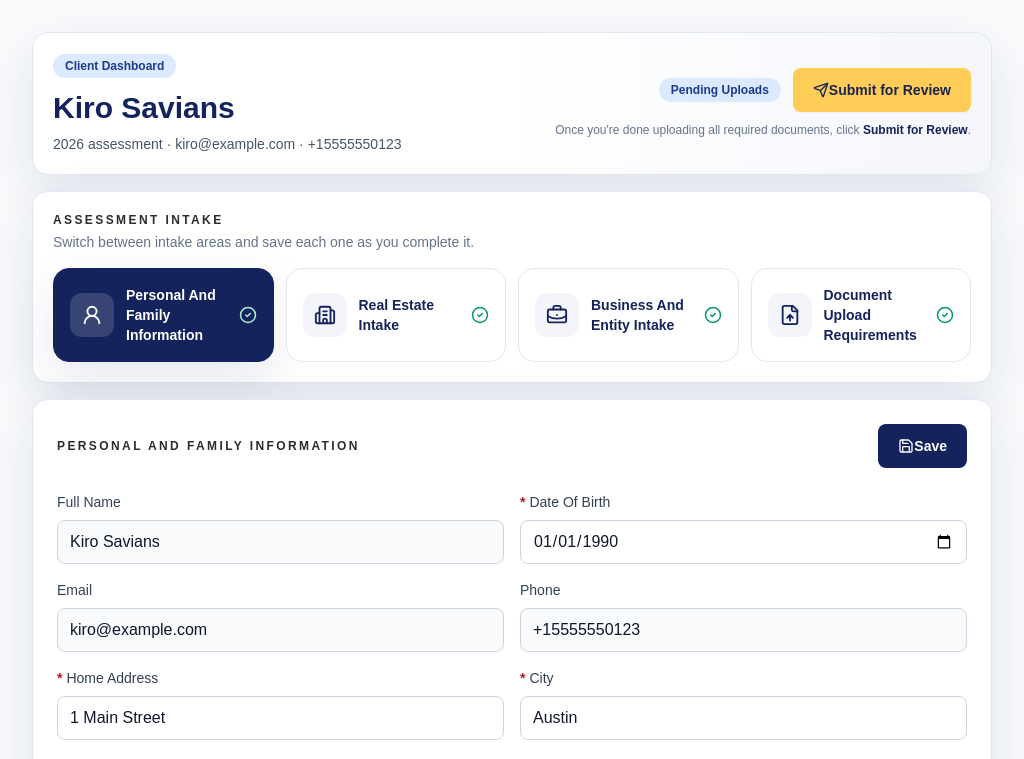
Test: PortalDashboardClient › keeps the current tab open when autosave fails
expect the heading "Kiro Savians" is shown: met, box [53, 91, 235, 124]
Click the button "Real Estate Intake" at (396, 315), box [286, 268, 506, 362]
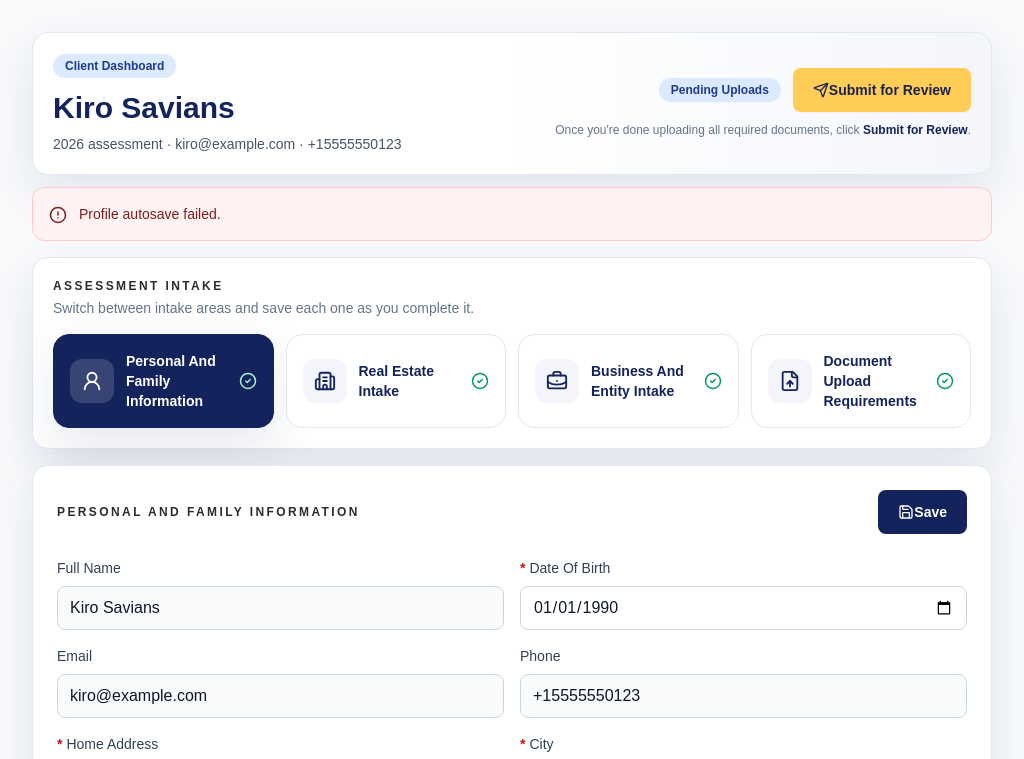
expect the text "Profile autosave failed." is shown: met, box [79, 204, 221, 224]
